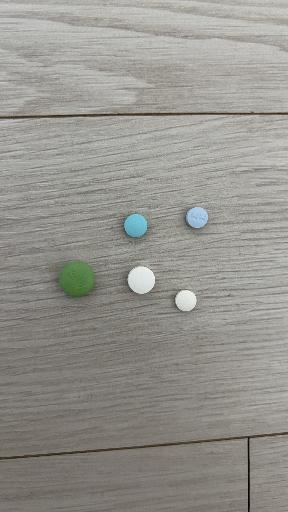Distec F: (59, 261, 95, 297)
Fenocle: (127, 266, 155, 294)
Lafubis: (175, 290, 197, 311)
Myoben: (124, 214, 148, 238)
Prilin: (186, 207, 208, 228)
pills1: (29, 158, 241, 344)
